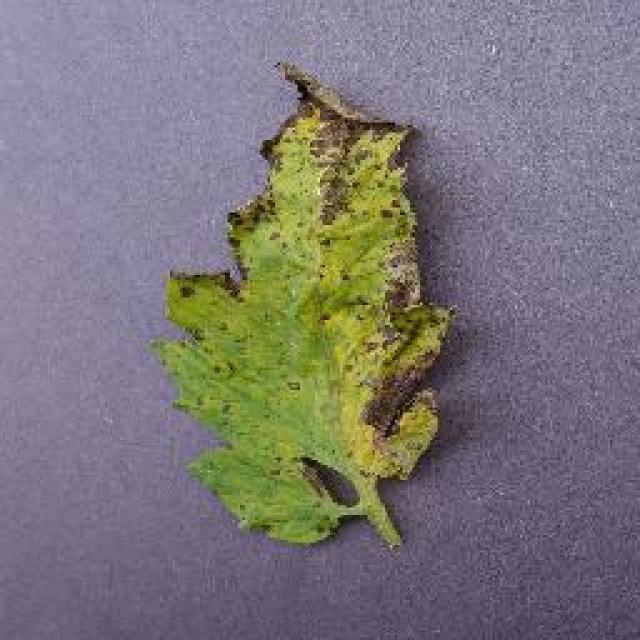Tomato Septoria spot leaf: (167, 63, 449, 550)
